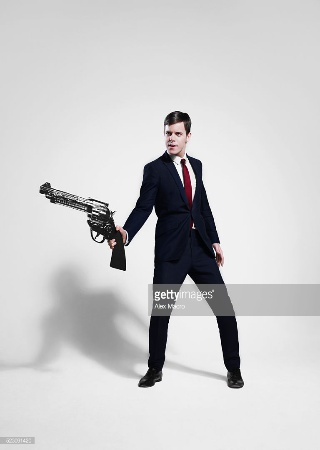handgun: (31, 177, 129, 276)
